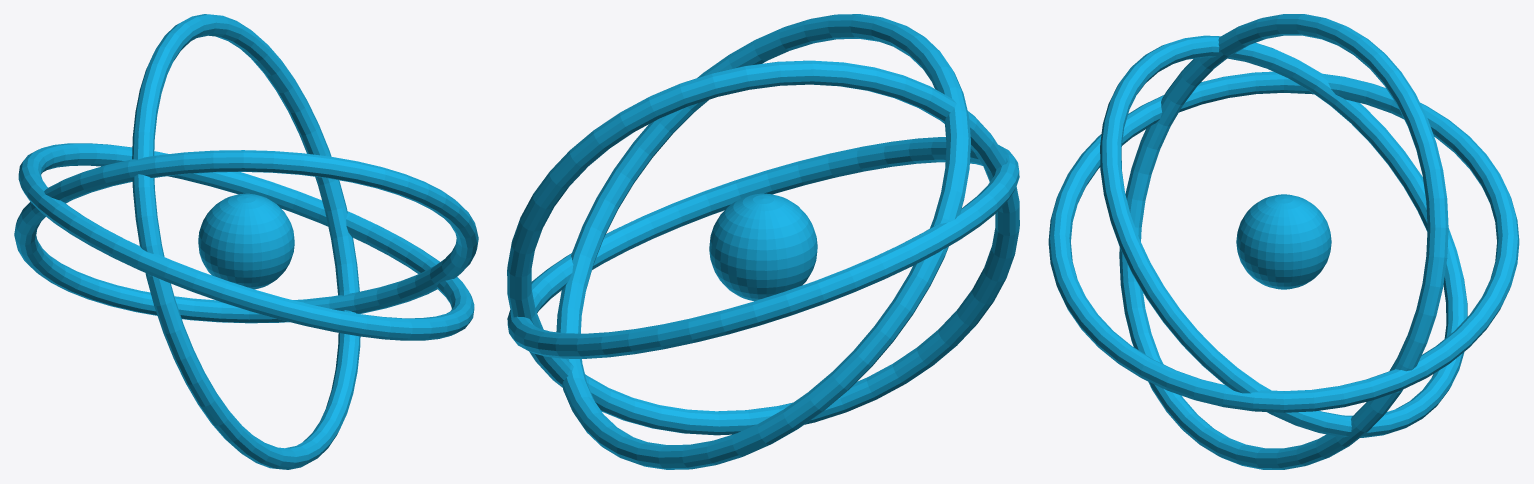
Rendered from React.glb.
3 renders of one model, left to right at view 1: azimuth 30°, elevation 25°; view 2: azimuth 150°, elevation 25°; view 3: azimuth 270°, elevation 25°, orthographic. The views are drawn at different scales.
Parts seen in each view (by area): view 1: Torus; view 2: Torus; view 3: Torus.
Part boxes in pixels (x1,y1,x2,y2): Torus: [14, 14, 478, 469]; Torus: [507, 14, 1019, 469]; Torus: [1048, 14, 1519, 469].
Size of the model in its own units: 1.42 by 1.38 by 1.51.
